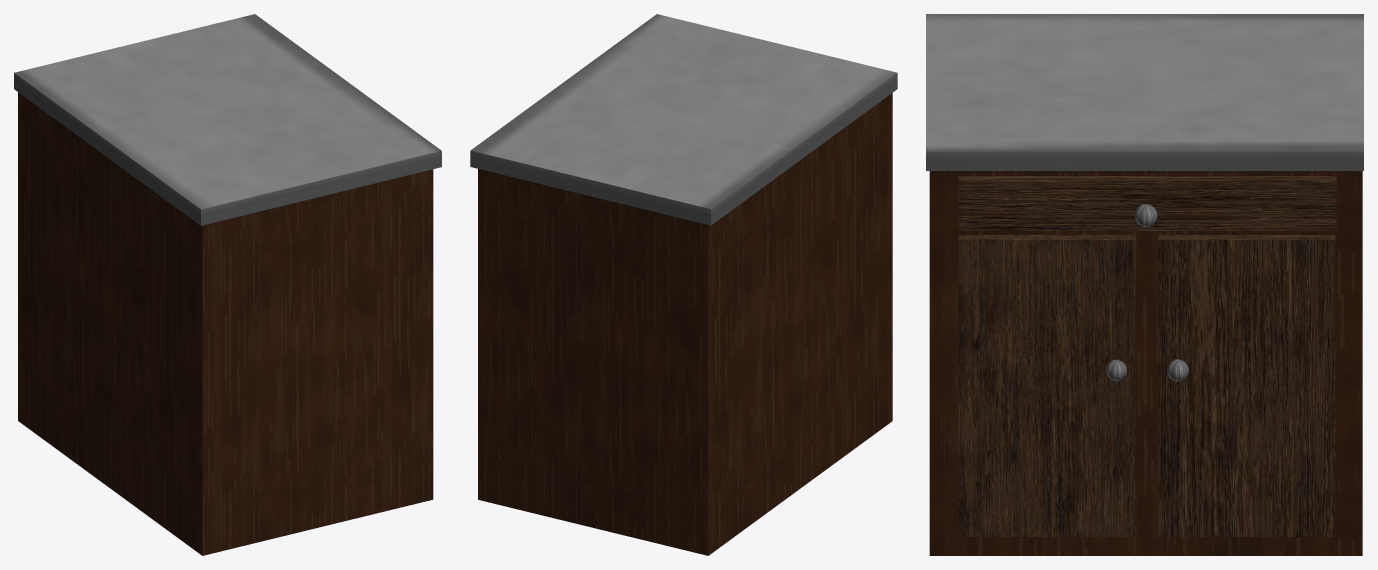
File: blat.fbx
3 views of the same model, side by side, from view 1: azimuth 30°, elevation 25°; view 2: azimuth 150°, elevation 25°; view 3: azimuth 270°, elevation 25° (orthographic). The views are drawn at different scales.
Parts seen in each view (by area): view 1: Cube, Cube.004; view 2: Cube, Cube.004; view 3: Cube.002, Cube.004, Cube, Sphere.001.
Part boxes in pixels (x1,y1,x2,y2): Cube: [18, 92, 433, 555]; Cube.004: [14, 14, 441, 225]; Cube: [478, 93, 892, 555]; Cube.004: [470, 14, 897, 225]; Cube.002: [958, 176, 1336, 536]; Cube.004: [926, 14, 1363, 170]; Cube: [929, 171, 1362, 555]; Sphere.001: [1106, 204, 1188, 381].
Size of the model in its own units: 326 by 414 by 402.
